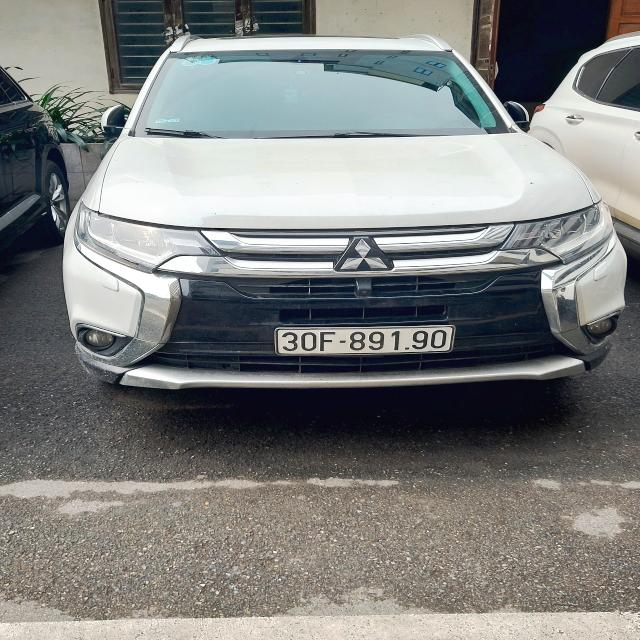license_plate: (276, 328, 455, 356)
